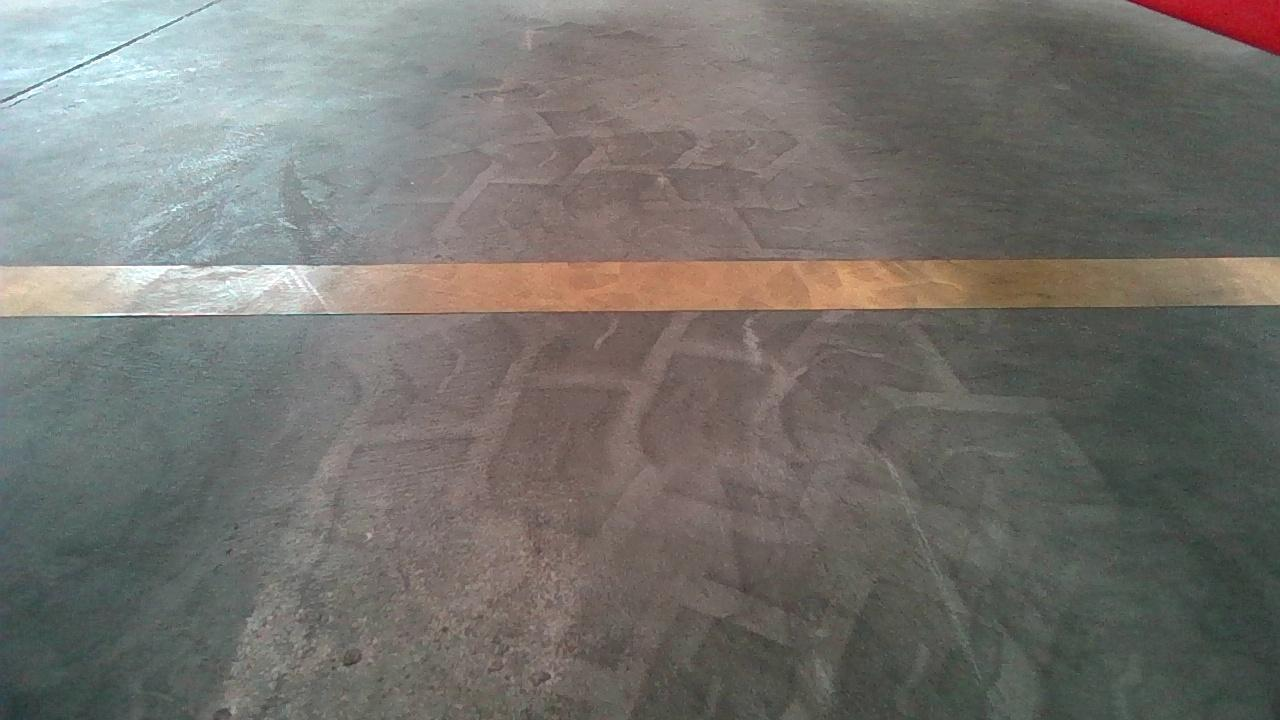yellow_line: (0, 249, 1275, 321)
